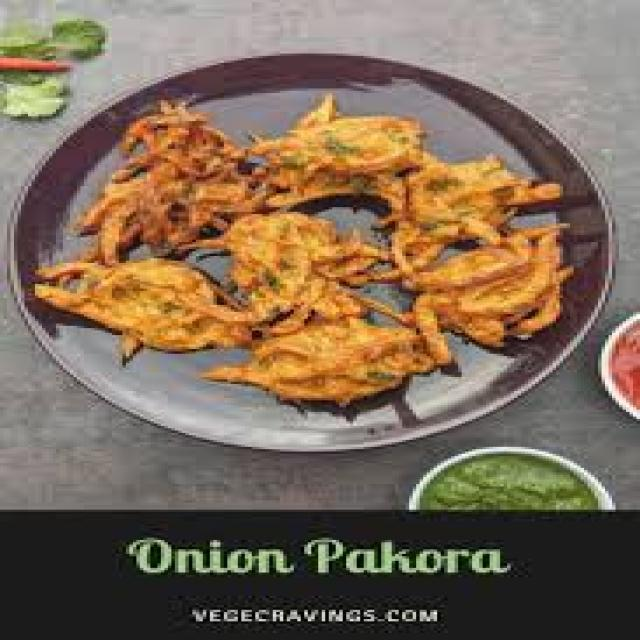BAJI: (83, 115, 278, 254), (49, 252, 250, 350), (366, 167, 551, 261), (220, 327, 427, 411), (225, 191, 358, 310), (432, 251, 557, 345), (269, 127, 401, 203)
